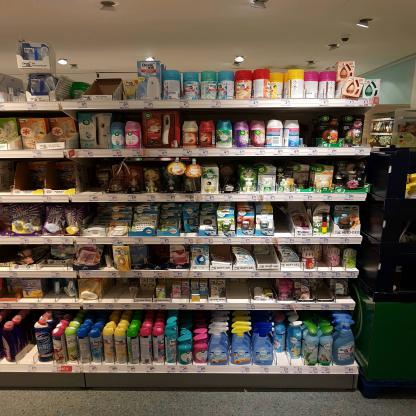Void: (52, 164, 80, 189), (18, 165, 44, 190), (227, 280, 253, 304), (102, 282, 134, 300), (18, 328, 34, 363), (86, 205, 112, 226), (84, 160, 102, 190), (302, 117, 317, 147), (274, 208, 290, 236), (150, 245, 166, 266), (93, 79, 110, 94), (44, 282, 54, 302), (214, 246, 230, 256), (260, 257, 272, 264), (257, 280, 271, 286)
